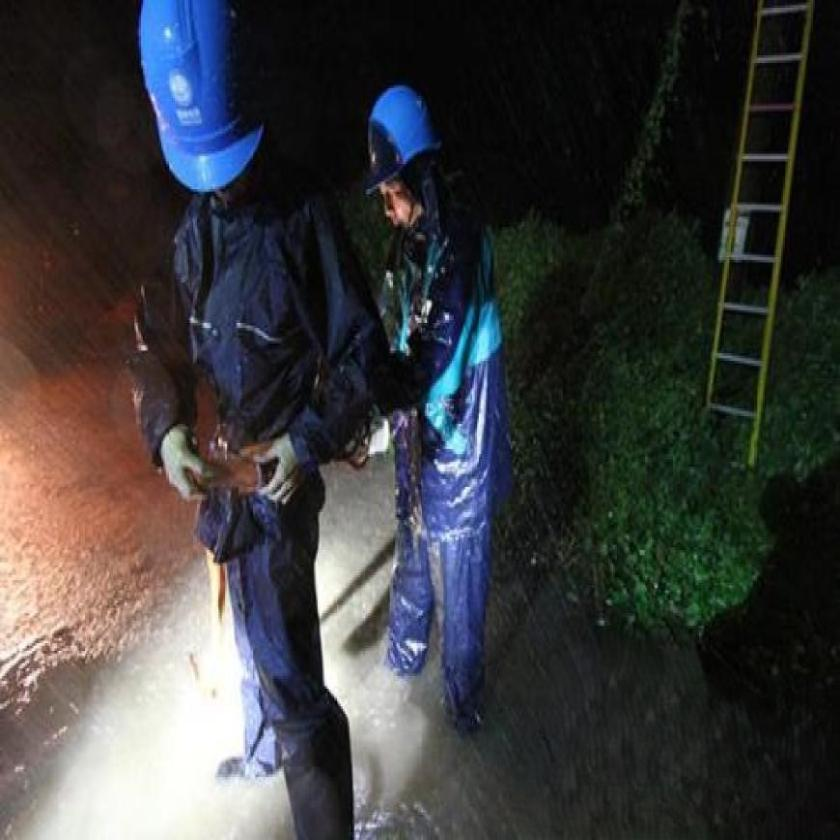Con_casco: (360, 58, 454, 217)
